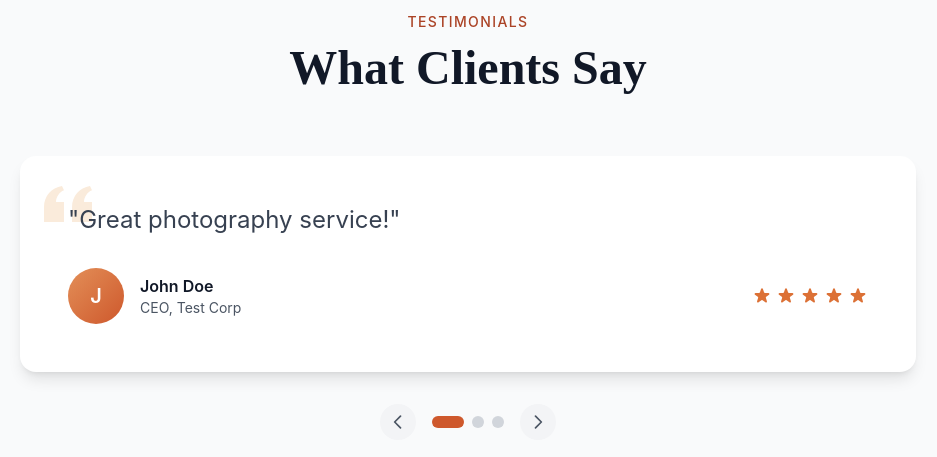
Scenario: TestimonialsSection › wraps around to last testimonial when going prev from first
Click the button named "previous testimonial" at (398, 422), box x1=380 y1=404 x2=416 y2=440
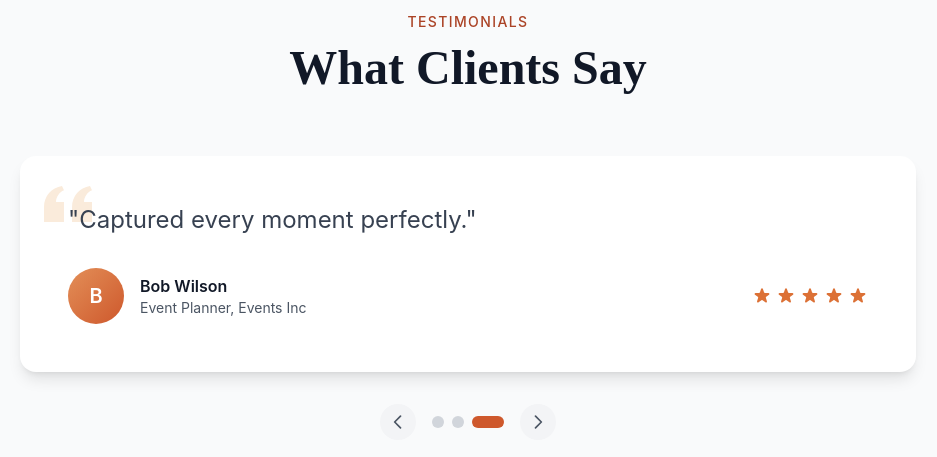
Expected: the text "\"Captured every moment perfectly.\"" is shown, x1=68 y1=205 x2=477 y2=234
